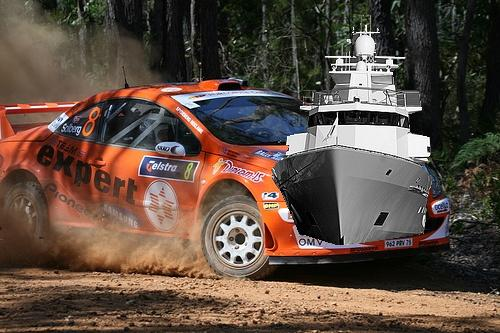tampered: (272, 16, 432, 245)
